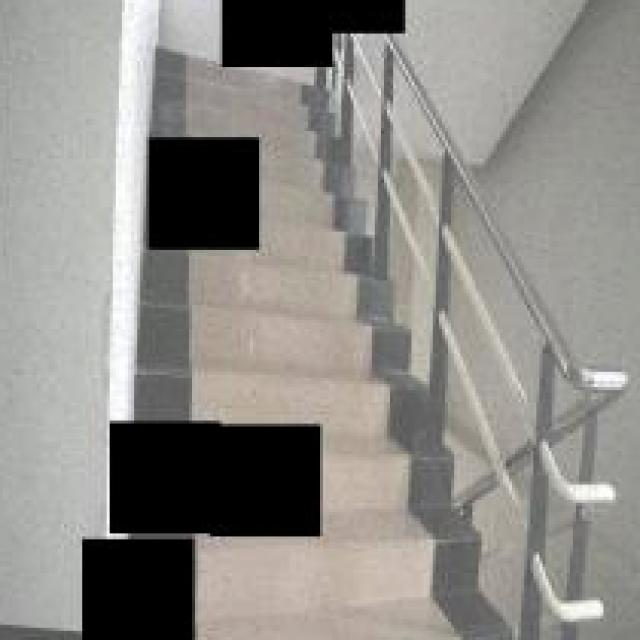upstair: (138, 269, 440, 416)
